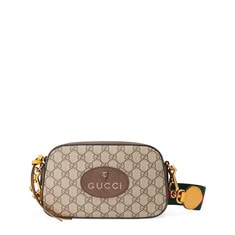Gucci: (33, 129, 177, 226), (81, 163, 130, 199), (137, 152, 161, 211)
